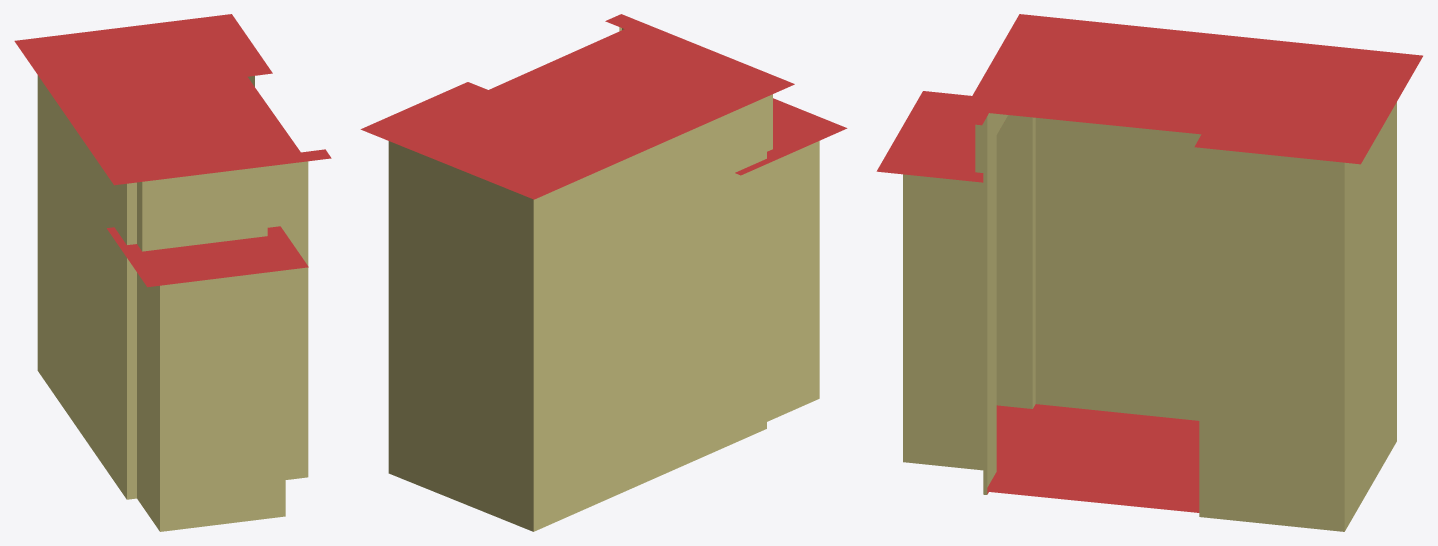
The picture shows the model from 3 angles, left to right: view 1: azimuth 30°, elevation 25°; view 2: azimuth 150°, elevation 25°; view 3: azimuth 270°, elevation 25°; orthographic projection. The views are drawn at different scales.
Visible parts, largest first — view 1: group_5, group_9, group_7, group_3, group_4; view 2: group_9, group_7, group_5, group_3; view 3: group_9, group_5, group_7, group_10, group_3, group_6, group_4.
Part boxes in pixels (<box>): group_5: <box>114,240,285,531</box>; group_9: <box>37,75,308,480</box>; group_7: <box>14,14,331,185</box>; group_3: <box>107,226,308,286</box>; group_4: <box>108,226,307,286</box>; group_9: <box>388,27,772,531</box>; group_7: <box>360,14,794,199</box>; group_5: <box>734,141,819,442</box>; group_3: <box>735,98,847,175</box>; group_9: <box>975,102,1396,531</box>; group_5: <box>903,115,1085,480</box>; group_7: <box>957,14,1422,164</box>; group_10: <box>987,409,1199,512</box>; group_3: <box>876,91,983,182</box>; group_6: <box>991,404,1085,485</box>; group_4: <box>879,91,983,181</box>.
Size of the model in its own units: 8.34 by 12.45 by 9.51.
